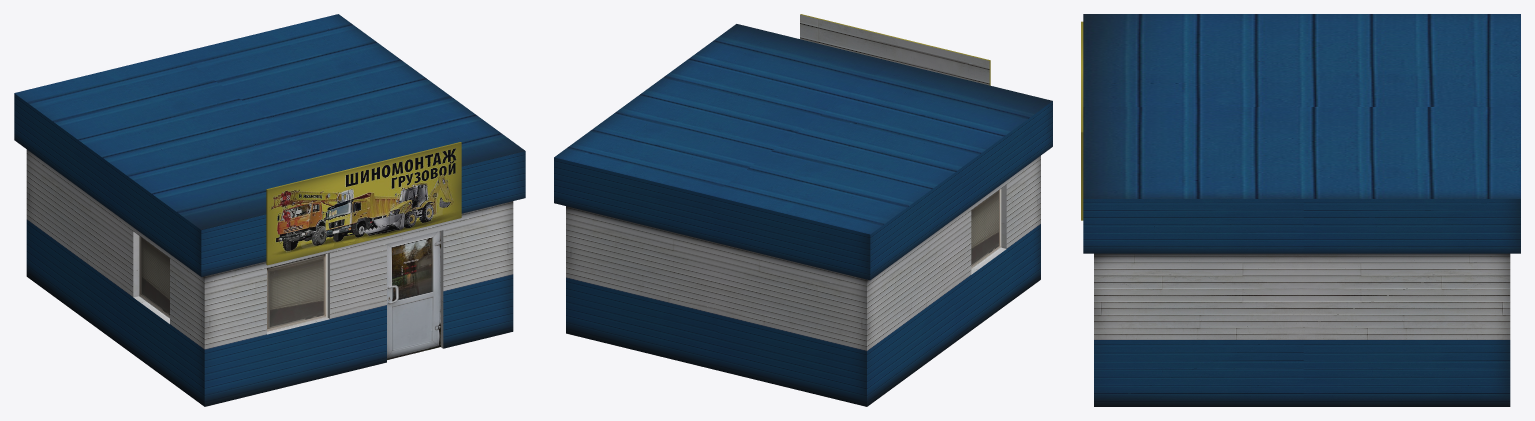
File: e30_shinomontaz3.FBX
3 views of the same model, side by side, from view 1: azimuth 30°, elevation 25°; view 2: azimuth 150°, elevation 25°; view 3: azimuth 270°, elevation 25° (orthographic). The views are drawn at different scales.
Parts seen in each view (by area): view 1: e30_shinomontaz3; view 2: e30_shinomontaz3; view 3: e30_shinomontaz3.
Boxes of the visible parts, bbox=[...] form: e30_shinomontaz3: bbox=[14, 14, 525, 406]; e30_shinomontaz3: bbox=[554, 14, 1052, 406]; e30_shinomontaz3: bbox=[1081, 14, 1520, 406].
Bounding box in the file's own units: 578 × 581 × 353.
